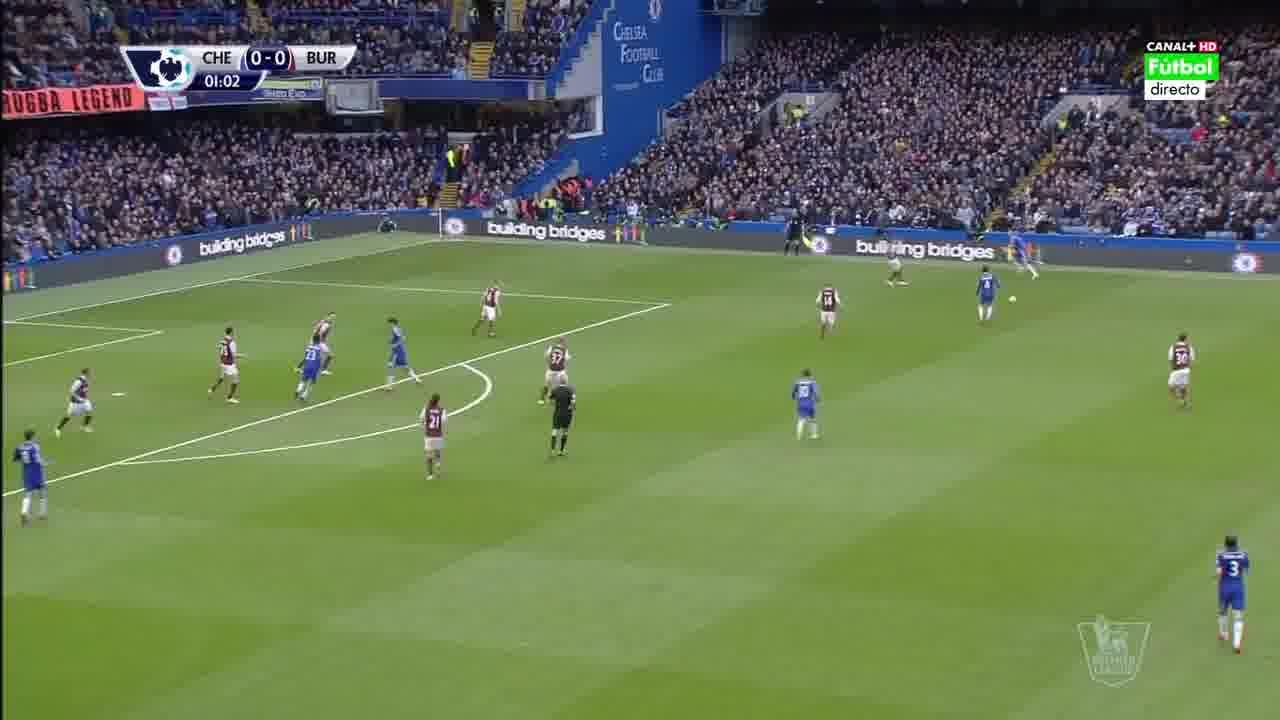football: (1008, 295, 1016, 304)
